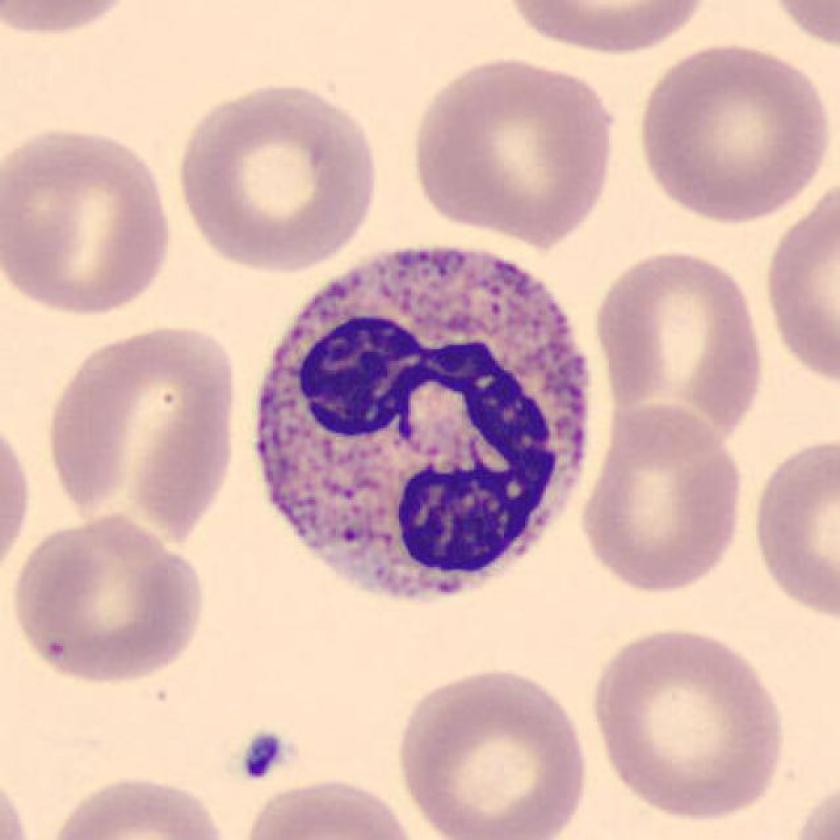neutrophil: (259, 248, 587, 606)
